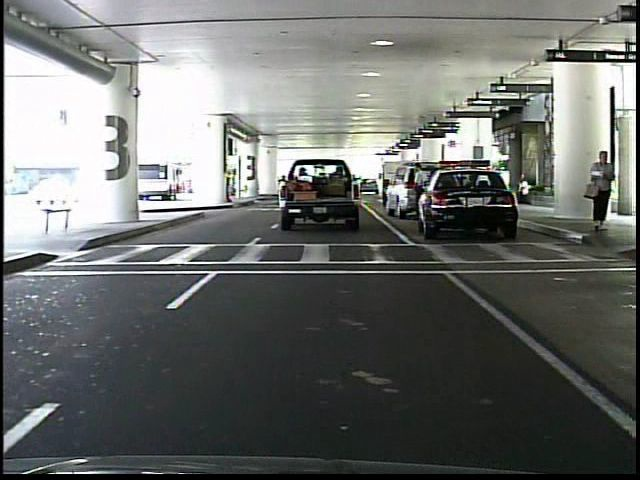person: (584, 146, 619, 236), (409, 160, 433, 223)
